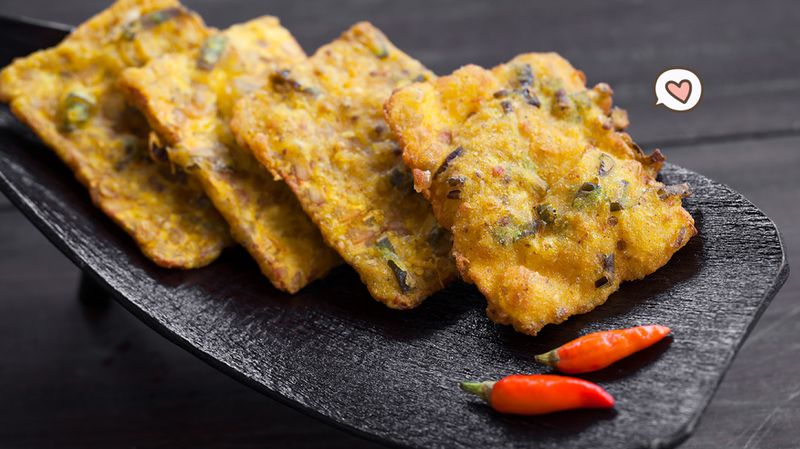Tempe: (384, 77, 713, 292), (9, 55, 244, 263), (122, 76, 322, 259), (244, 87, 458, 255)
